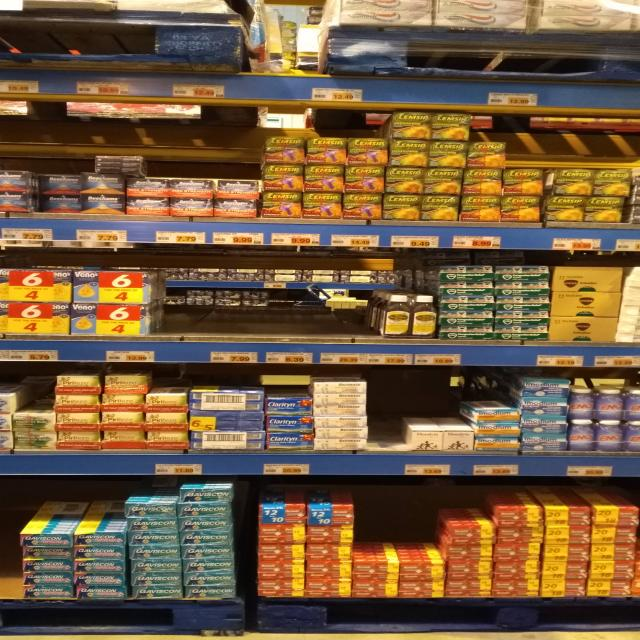empty: (160, 259, 383, 344), (3, 19, 164, 80), (411, 43, 610, 77), (368, 366, 412, 461), (1, 490, 25, 592)
